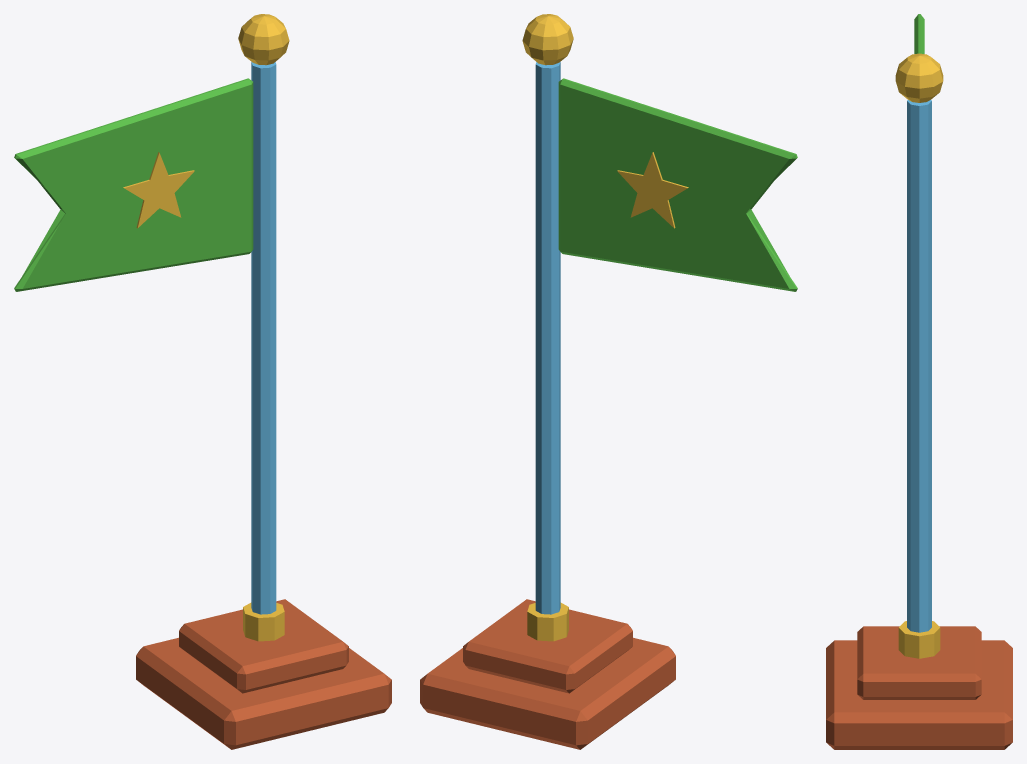
File: goal_flag.obj
3 views of the same model, side by side, from view 1: azimuth 30°, elevation 25°; view 2: azimuth 150°, elevation 25°; view 3: azimuth 270°, elevation 25° (orthographic). The views are drawn at different scales.
Visible parts, largest first — view 1: goal_flag; view 2: goal_flag; view 3: goal_flag.
Boxes of the visible parts, bbox=[...] form: goal_flag: bbox=[14, 14, 391, 749]; goal_flag: bbox=[420, 14, 797, 749]; goal_flag: bbox=[826, 14, 1012, 749].
Bounding box in the file's own units: 1.79 × 3.5 × 0.9.
